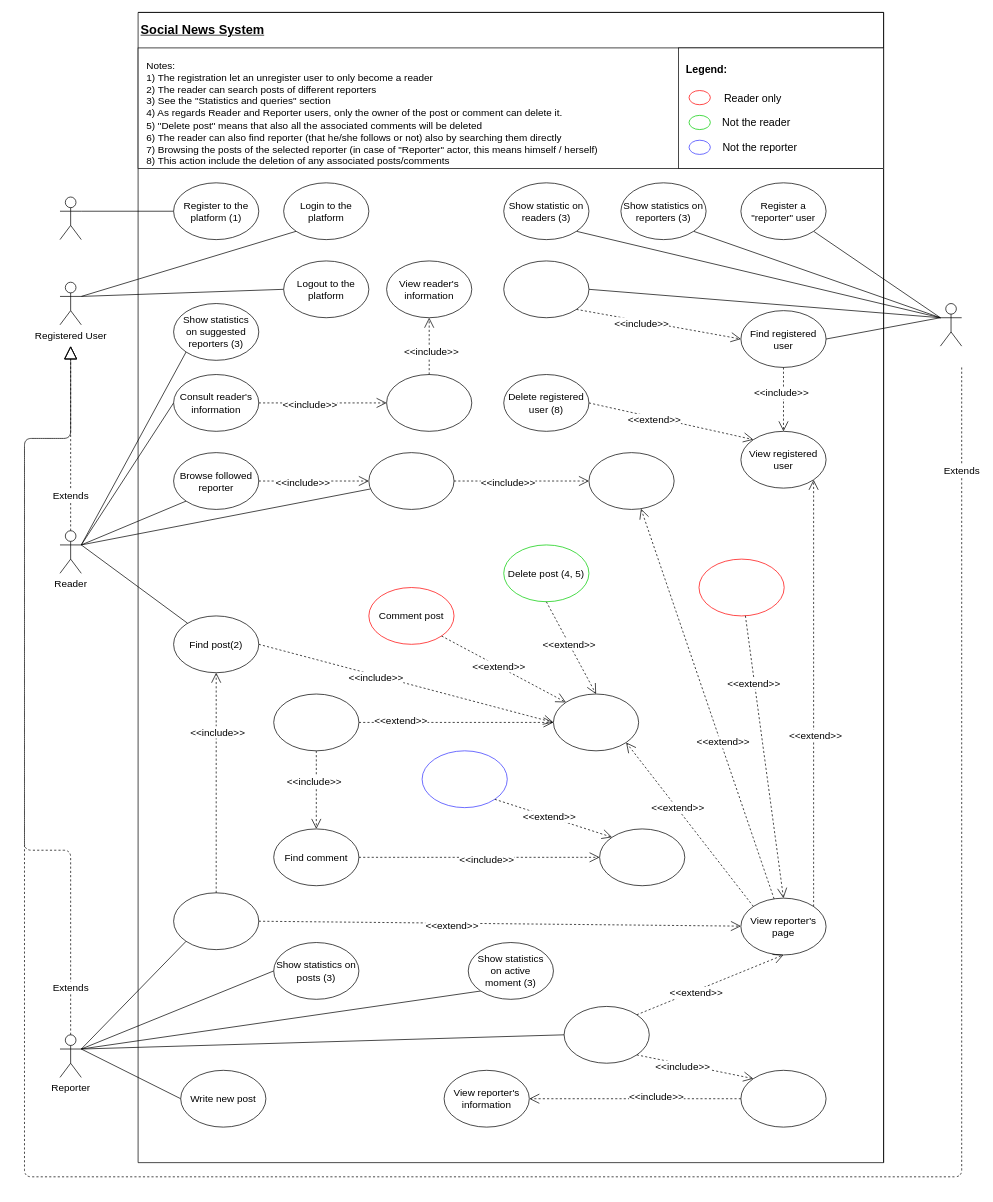
The diagram is 993 pixels wide and 1202 high, and some of its shapes have lost their labels. The shapes that lost their labels are listed below. From the top down, each one's centre as x and y in pixels, then its label:
At (70,218): "Unregistered User".
At (546,289): "Browse registered user".
At (951,324): "Administrator".
At (429,402): "Find reader's information".
At (411,480): "Find reporter (6)".
At (631,480): "View reporter".
At (741,587): "Follow reporter".
At (316,722): "Browse comment".
At (596,722): "View post".
At (464,779): "Delete comment (4)".
At (642,857): "View comment".
At (216,921): "Browse post (7)".
At (606,1034): "Consult reporter's information".
At (783,1098): "Find reporter's information".
